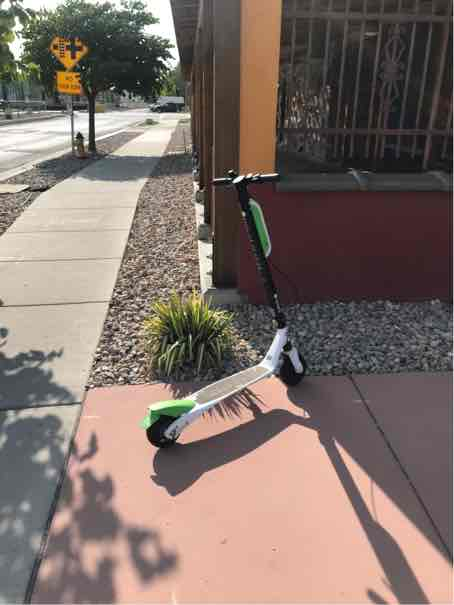scooter: (139, 157, 308, 459)
